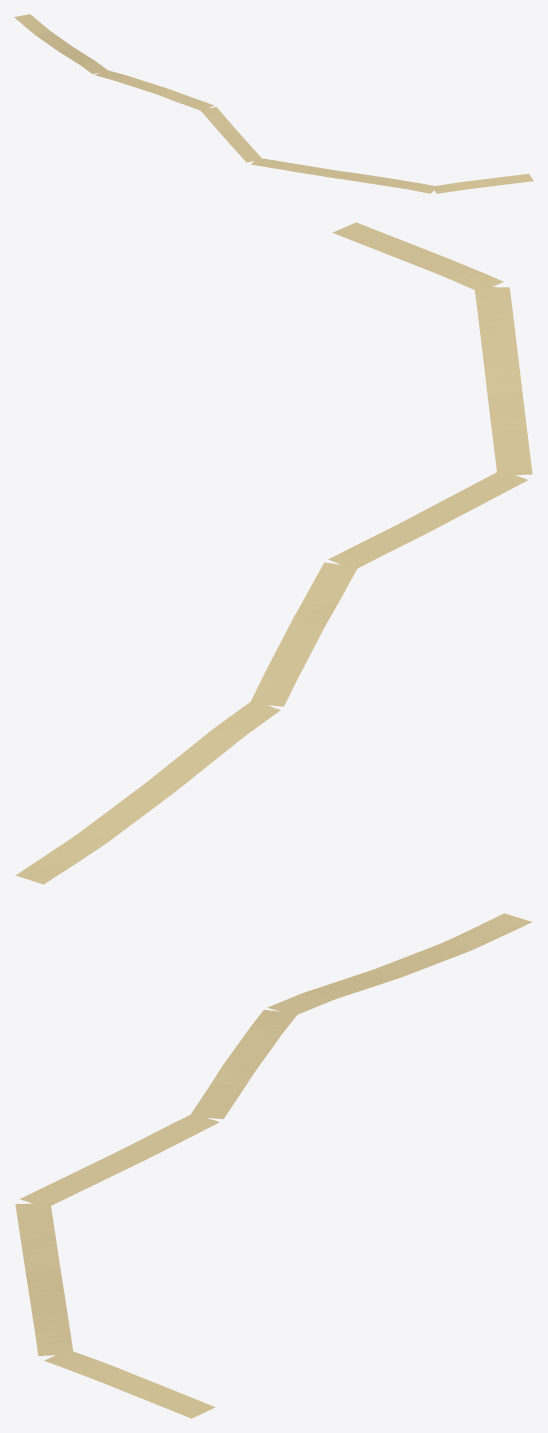
Rendered from Trail_28.glb.
3 views of the same model, one above another, from view 1: azimuth 30°, elevation 25°; view 2: azimuth 150°, elevation 25°; view 3: azimuth 330°, elevation 25° (orthographic). The views are drawn at different scales.
Visible parts, largest first — view 1: Trail_28; view 2: Trail_28; view 3: Trail_28.
Part boxes in pixels (bbox=[...]): Trail_28: bbox=[14, 14, 533, 193]; Trail_28: bbox=[15, 222, 532, 884]; Trail_28: bbox=[15, 913, 531, 1418].
Bounding box in the file's own units: 23.53 × 4.35 × 67.09.
